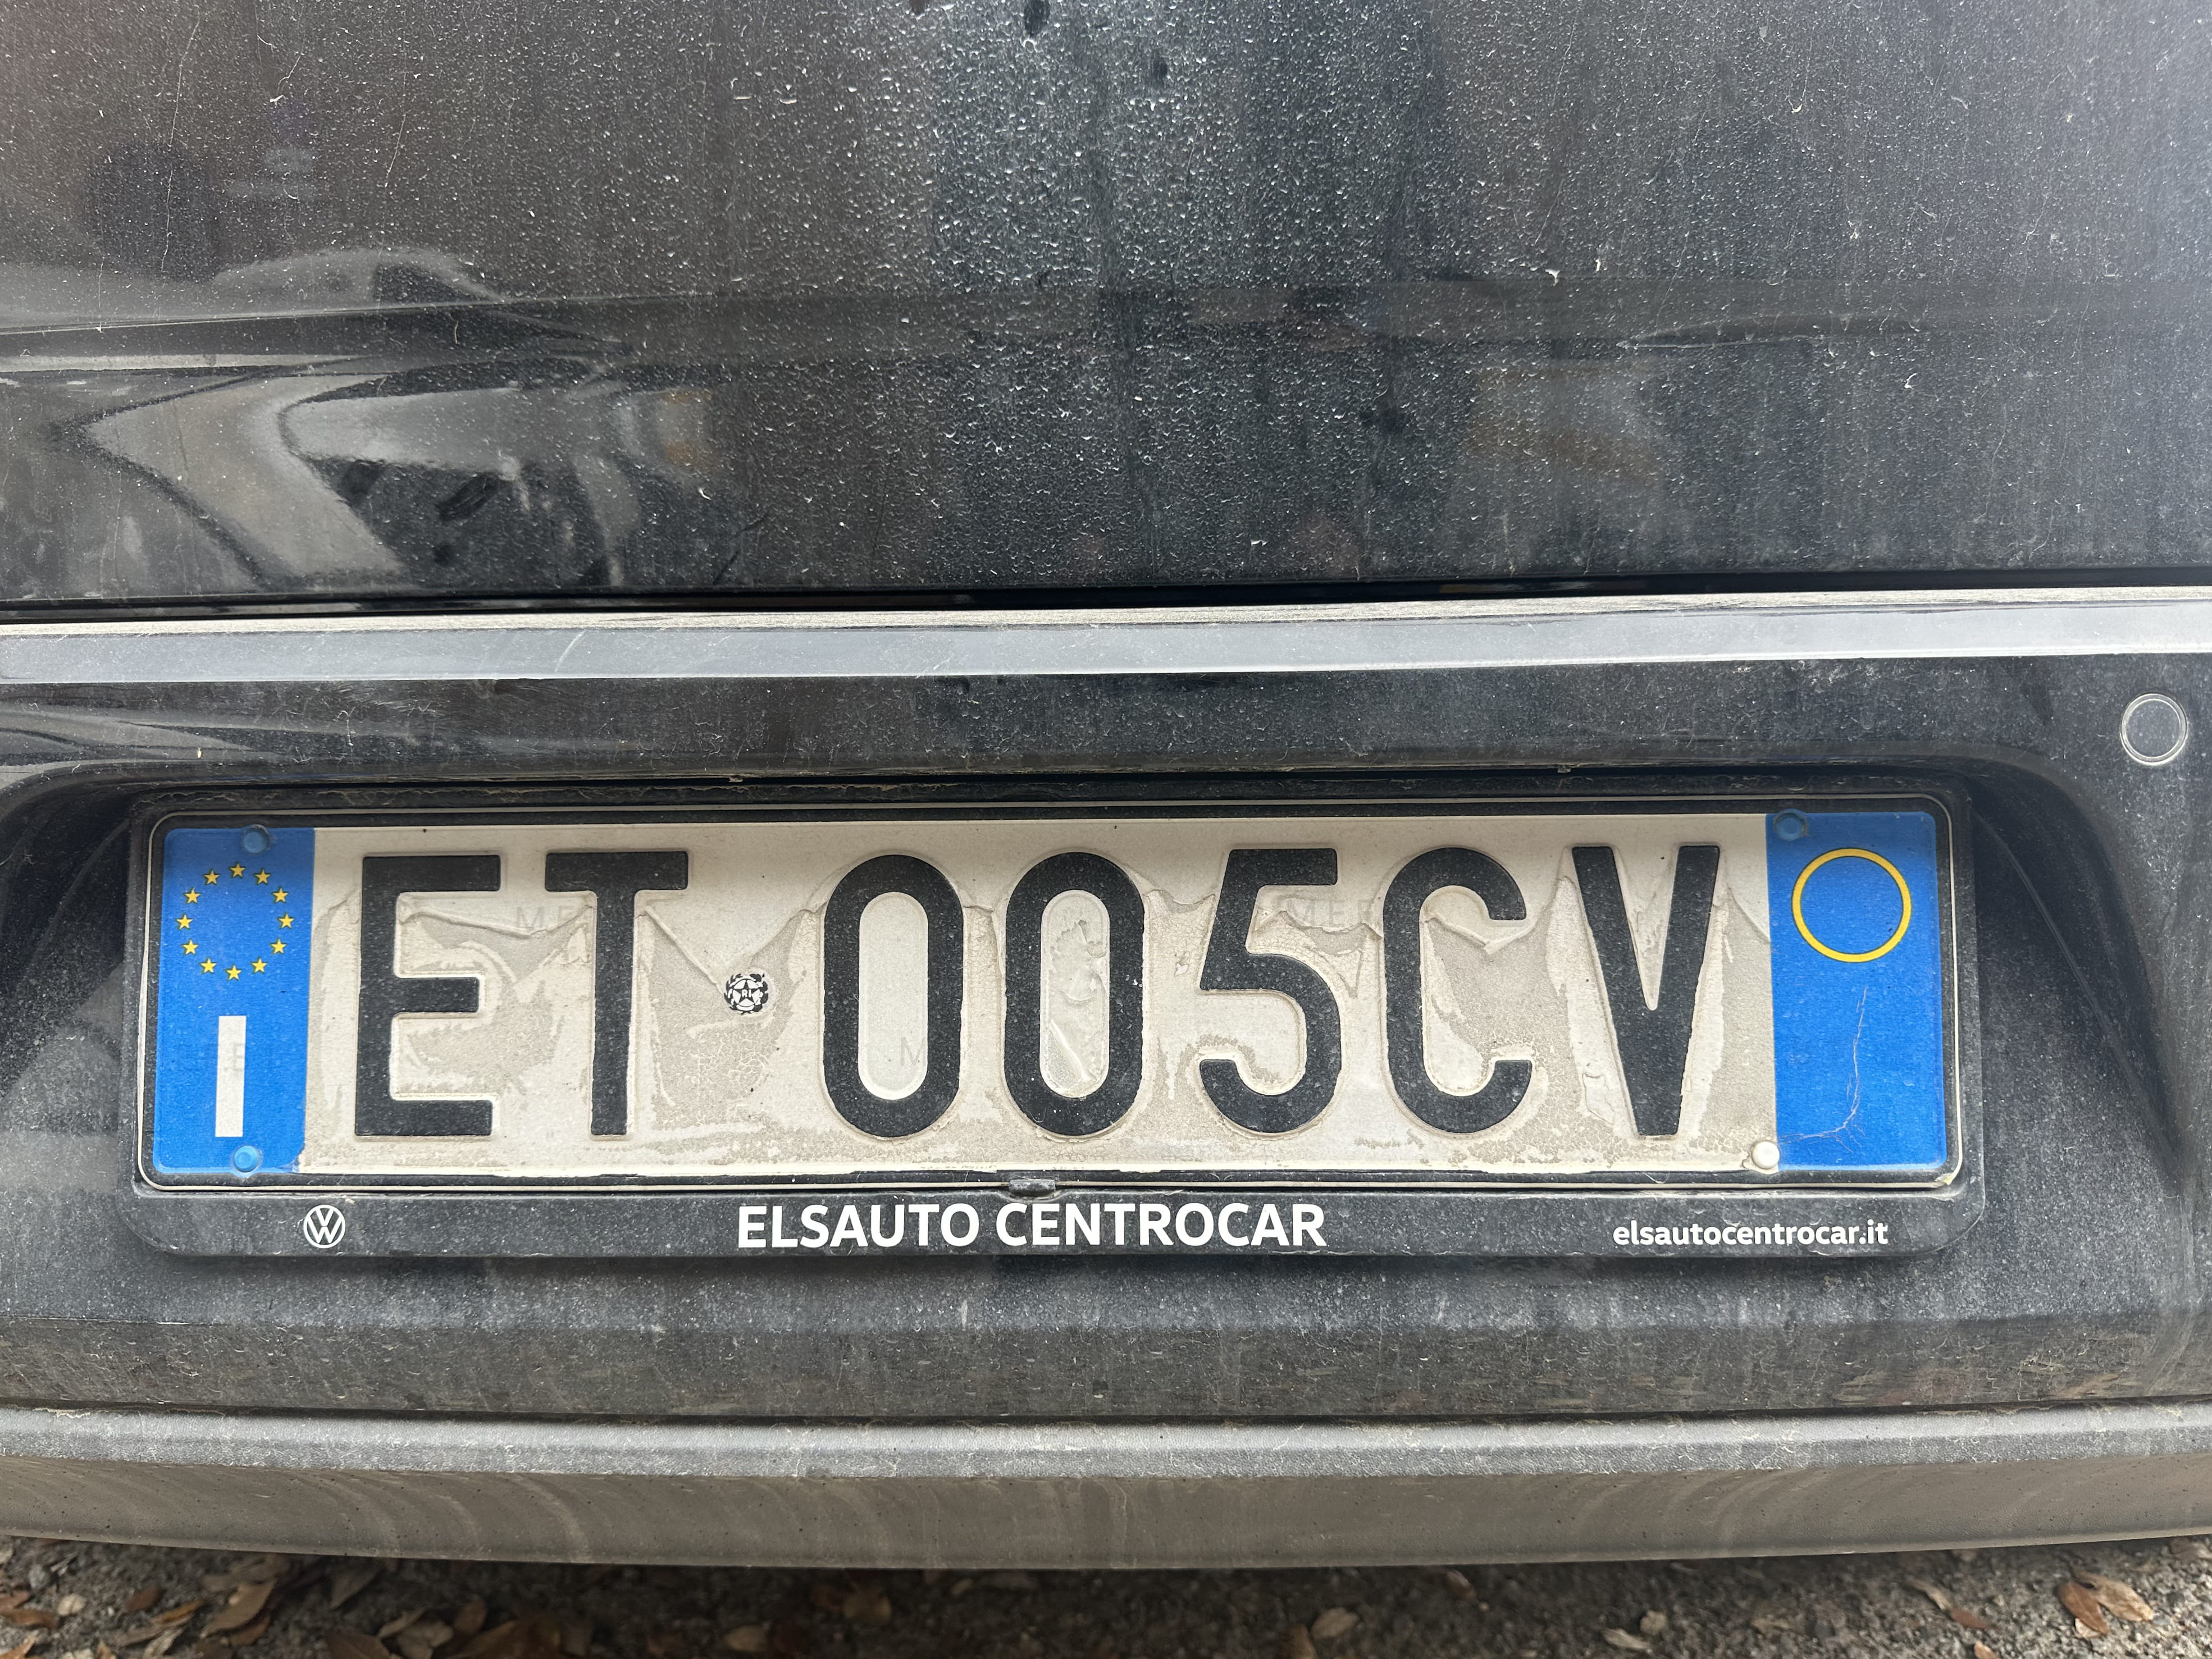license-plate: (138, 792, 1967, 1191)
